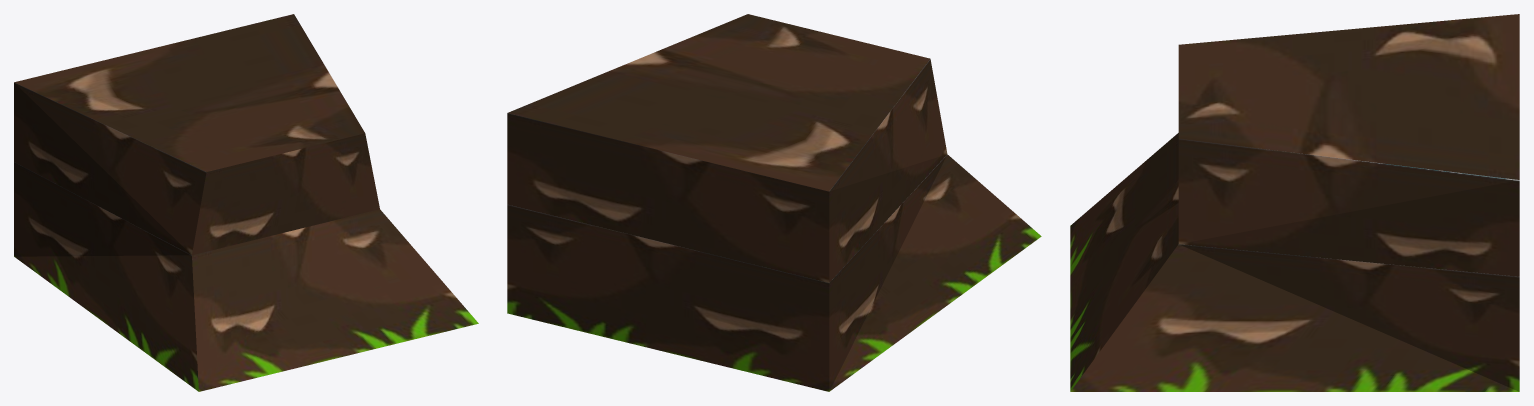
The model's file is rock2.obj.
3 views of the same model, side by side, from view 1: azimuth 30°, elevation 25°; view 2: azimuth 150°, elevation 25°; view 3: azimuth 270°, elevation 25° (orthographic). The views are drawn at different scales.
Parts seen in each view (by area): view 1: Cube; view 2: Cube; view 3: Cube.
Boxes of the visible parts, box(x1,y1,x2,y2) form: Cube: box(14, 14, 478, 391); Cube: box(507, 14, 1041, 391); Cube: box(1070, 14, 1519, 391).
Size of the model in its own units: 12.2 by 7.27 by 13.95.
